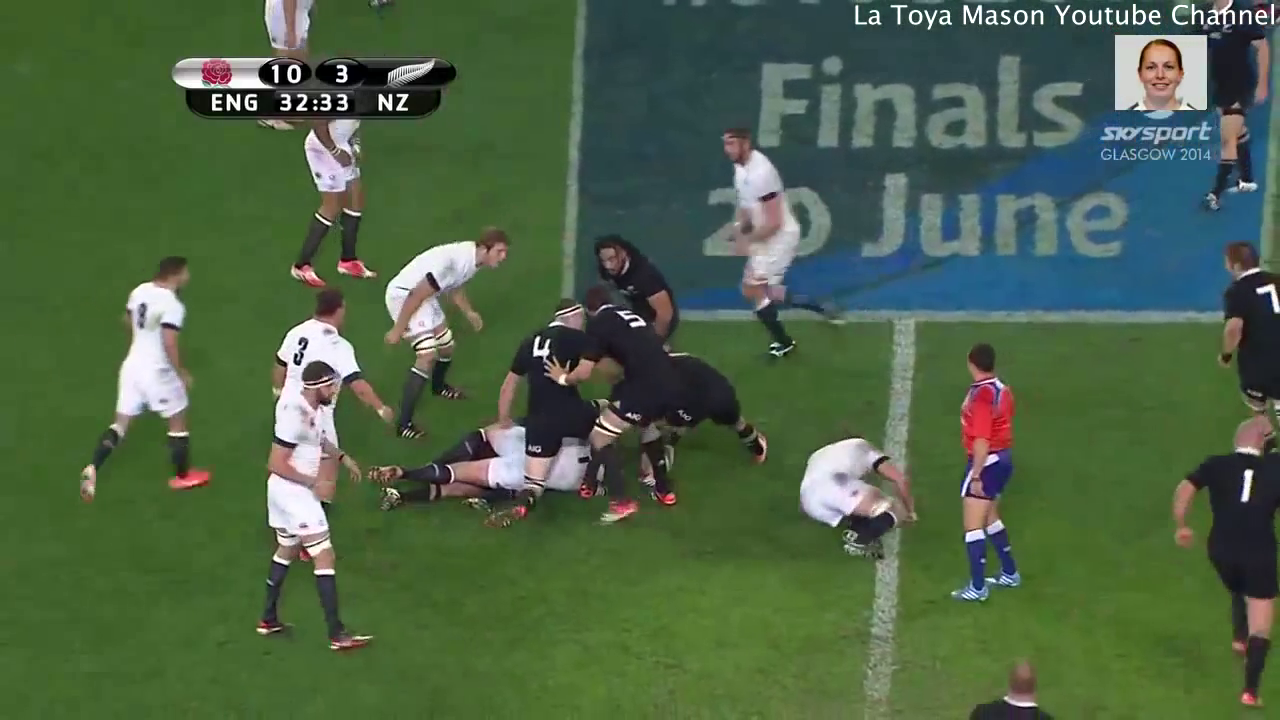player: (68, 247, 223, 521), (245, 348, 374, 667), (1158, 403, 1280, 720), (544, 281, 682, 531), (480, 285, 615, 537), (709, 119, 844, 370), (381, 217, 515, 443), (255, 278, 399, 466), (611, 312, 781, 469), (941, 336, 1031, 622), (788, 421, 942, 584), (361, 419, 614, 512), (281, 96, 386, 300), (1187, 1, 1280, 221), (1209, 236, 1280, 434), (585, 224, 687, 341), (959, 646, 1069, 720)
ruck: (347, 311, 745, 516)
